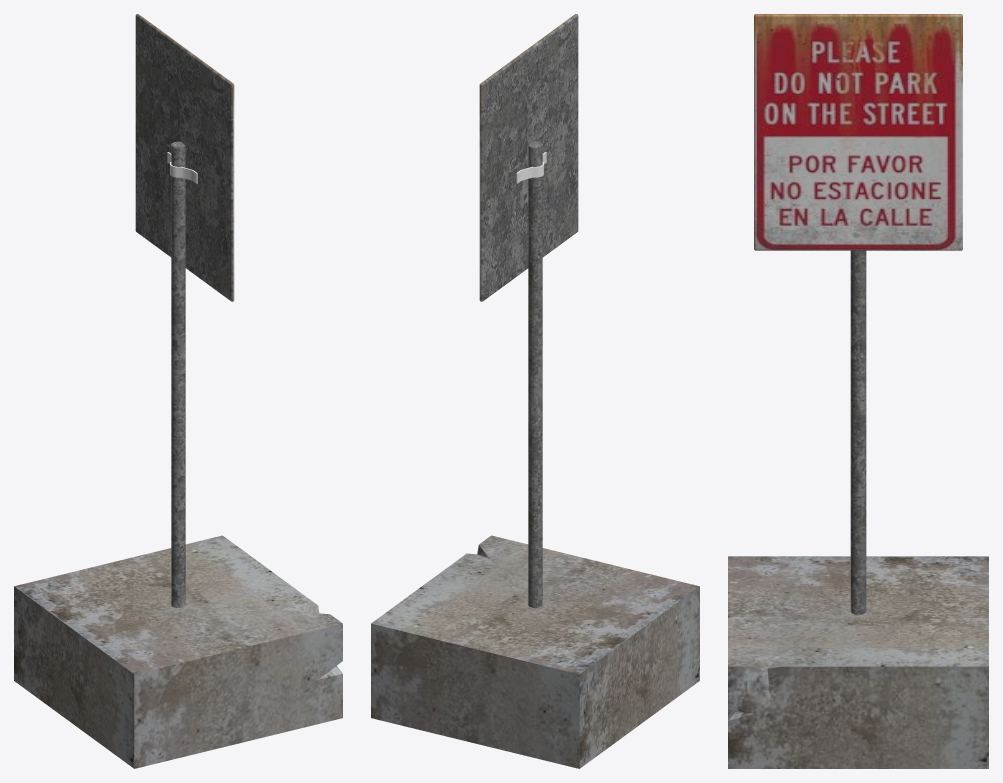
File: roadsign.glb
3 views of the same model, side by side, from view 1: azimuth 30°, elevation 25°; view 2: azimuth 150°, elevation 25°; view 3: azimuth 270°, elevation 25° (orthographic). The views are drawn at different scales.
Parts seen in each view (by area): view 1: Cube, Cube_1, Cylinder; view 2: Cube, Cube_1, Cylinder; view 3: Cube, Cube_1, Cylinder.
Part boxes in pixels (bbox=[...]): Cube: bbox=[14, 535, 342, 768]; Cube_1: bbox=[135, 14, 234, 301]; Cylinder: bbox=[171, 141, 185, 607]; Cube: bbox=[371, 535, 699, 768]; Cube_1: bbox=[479, 14, 578, 301]; Cylinder: bbox=[528, 141, 542, 607]; Cube: bbox=[728, 556, 988, 768]; Cube_1: bbox=[754, 14, 962, 250]; Cylinder: bbox=[850, 250, 866, 614].
Bounding box in the file's own units: 200 × 595 × 200.
2 materials, 1 textured.
